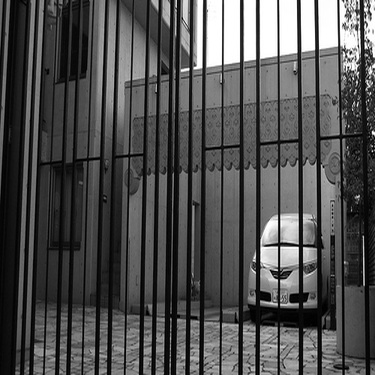car: (225, 204, 332, 313)
